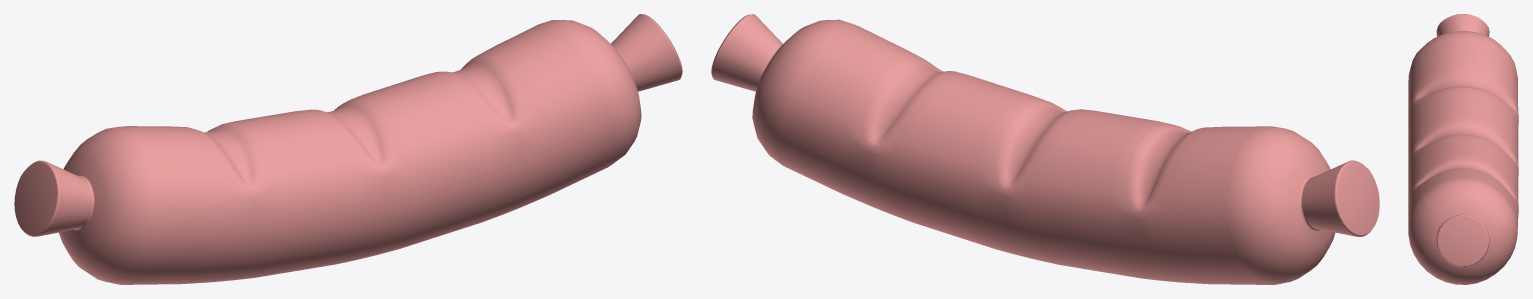
Rendered from Isl_2_Sausage_2.fbx.
3 renders of one model, left to right at view 1: azimuth 30°, elevation 25°; view 2: azimuth 150°, elevation 25°; view 3: azimuth 270°, elevation 25°, orthographic. The views are drawn at different scales.
Parts seen in each view (by area): view 1: Isl_2_Sausage_2; view 2: Isl_2_Sausage_2; view 3: Isl_2_Sausage_2.
Boxes of the visible parts, x1,y1,x2,y2 form: Isl_2_Sausage_2: (14, 14, 682, 284); Isl_2_Sausage_2: (711, 14, 1379, 284); Isl_2_Sausage_2: (1408, 14, 1518, 284).
Size of the model in its own units: 38.63 by 9.83 by 8.31.
